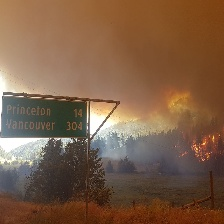fire: (195, 136, 221, 161)
smoke: (1, 2, 224, 122)
